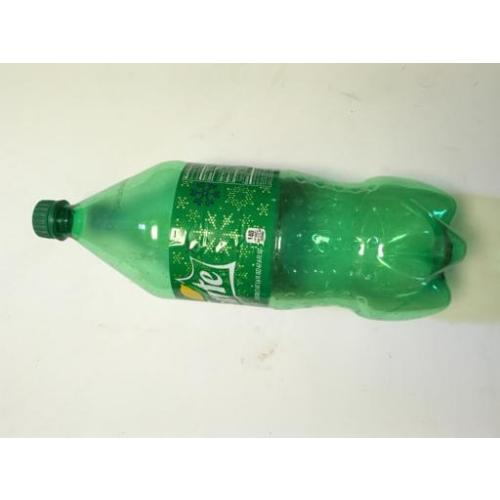plastic: (32, 162, 465, 320)
